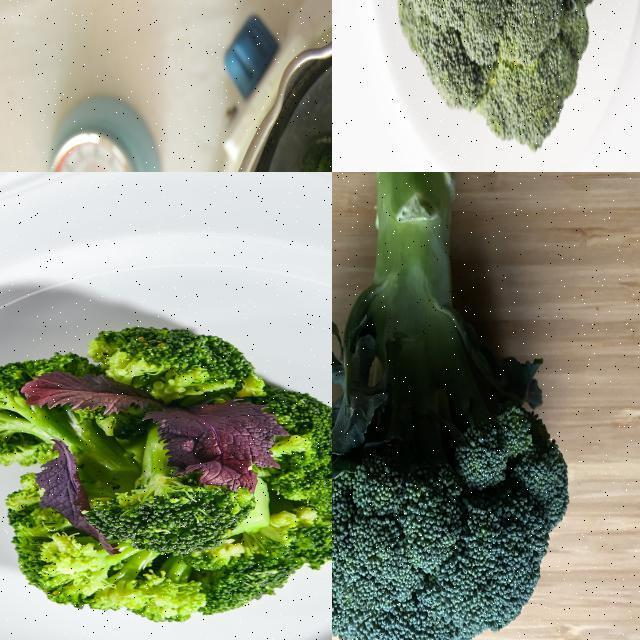broccoli: (332, 172, 577, 639), (385, 0, 628, 158), (94, 410, 260, 556), (0, 348, 144, 474), (92, 330, 270, 410)
